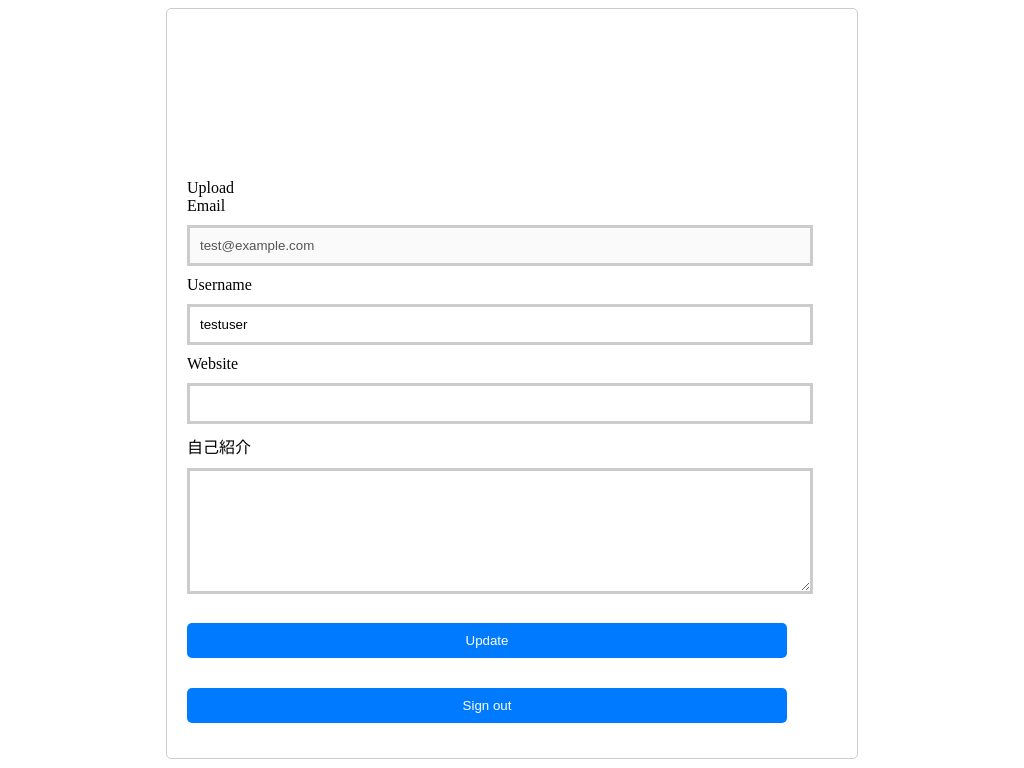
it: AccountPage › 認証済みでプロフィールがある場合 › ユーザー名を空にするとUpdateボタンが無効になる
The image size is (1024, 768).
Check: the button "Update" is enabled, box [187,623,787,658]
Clear the field labelled "Username" at coordinates (500, 324), box [187,304,813,345]
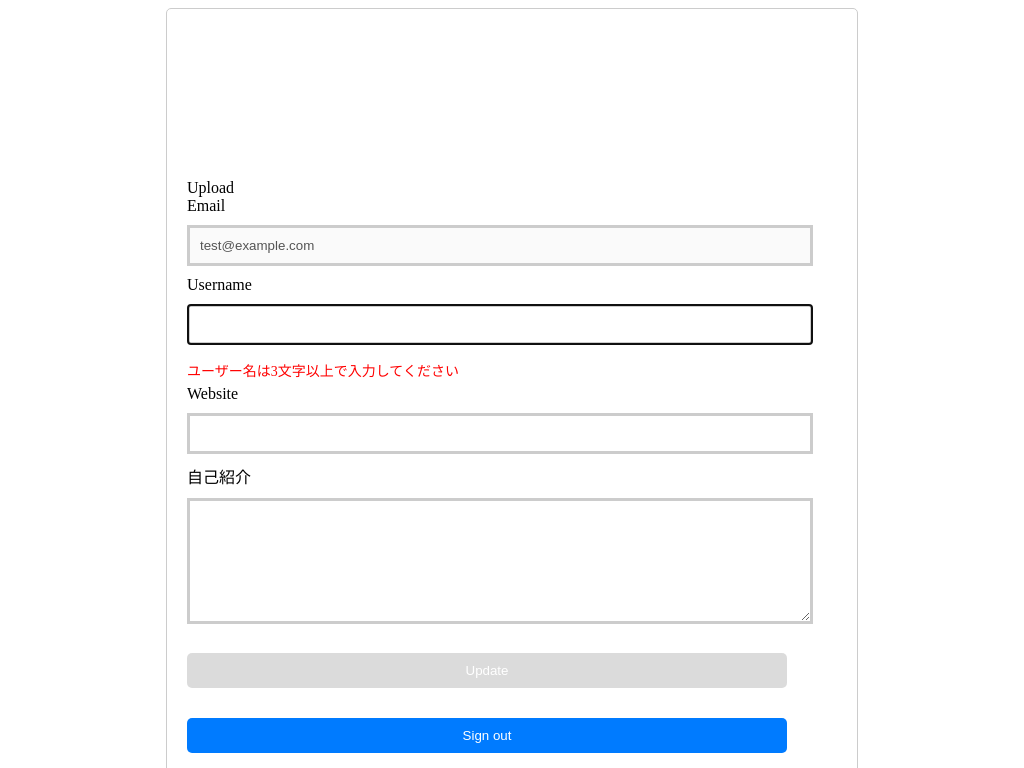
Check: the button "Update" is disabled, box [187,653,787,688]
